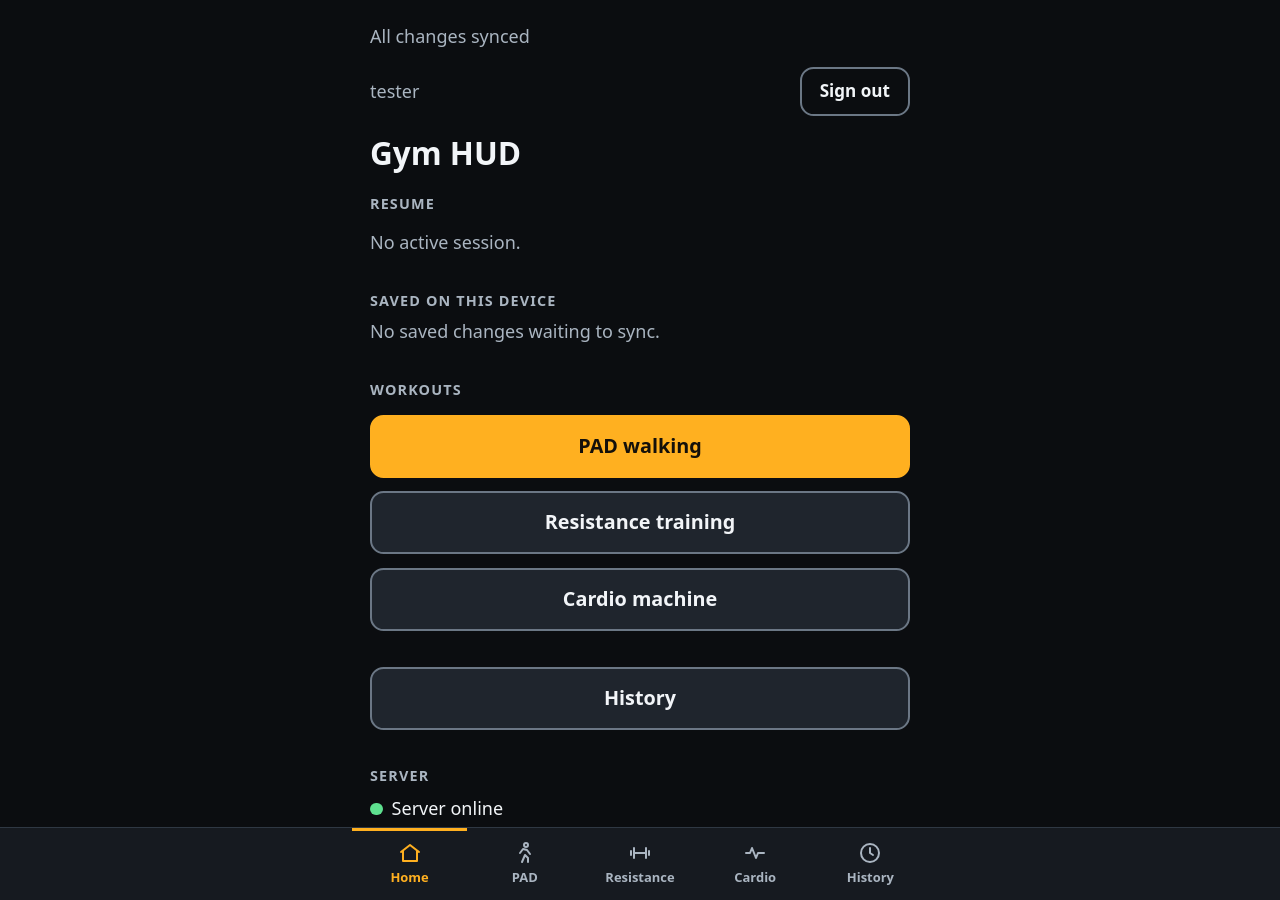
Test: navigation smoke test › navigates to PAD and offers the start screen
The width and height of the screenshot is (1280, 900).
Click the link "PAD".
click(525, 864)  # box [512, 841, 538, 886]
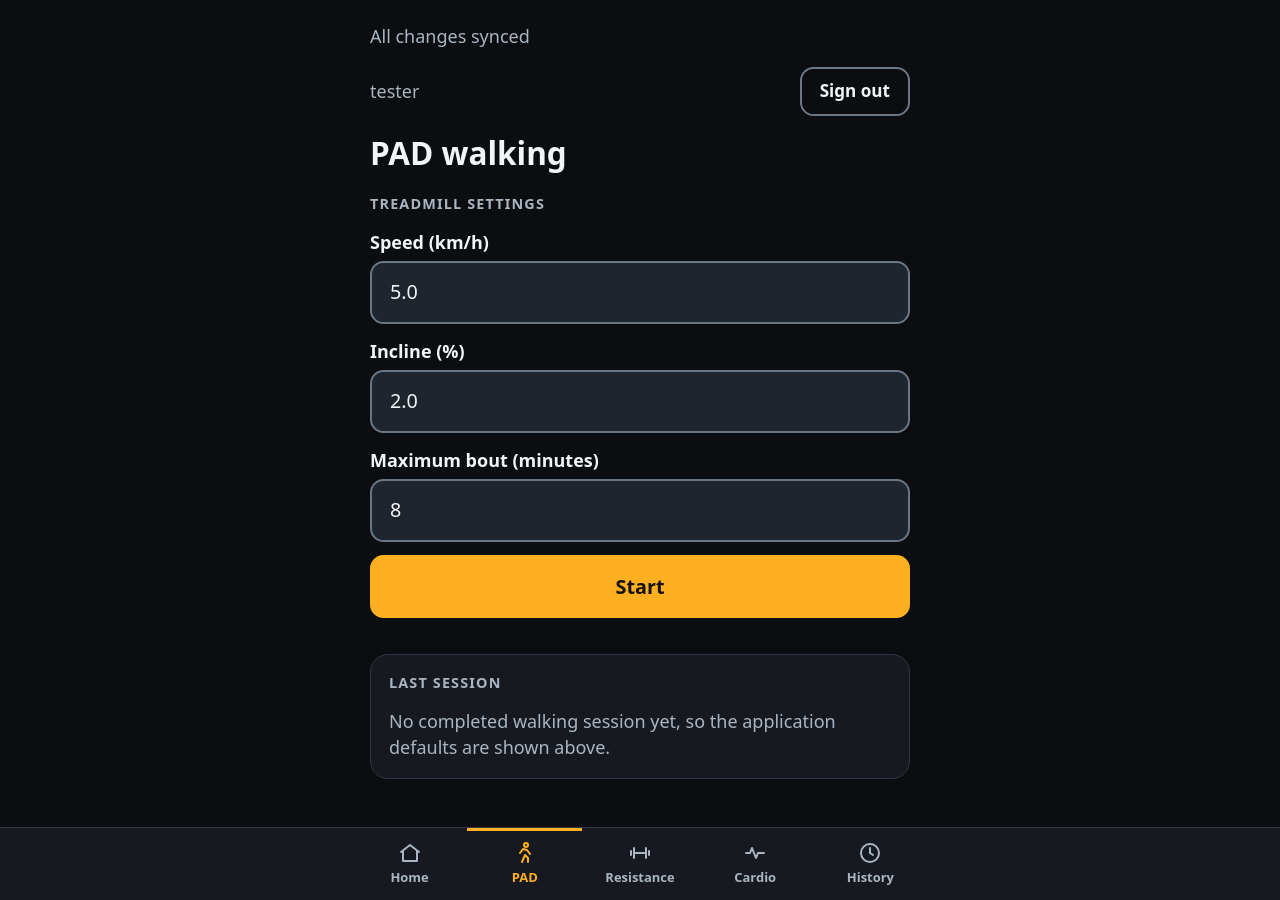
Expected: the number field labelled "Speed (km/h)" holds "5", [370, 261, 910, 324]
Expected: the button "Start" is enabled, [370, 555, 910, 618]
